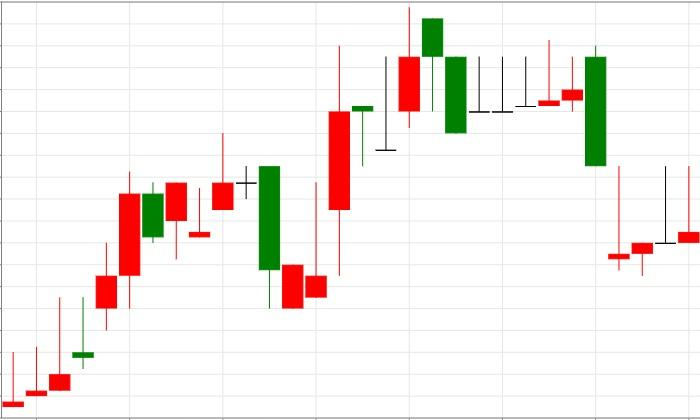evening_star_fall: (1, 134, 281, 408)
inverse_hammer_rise: (212, 134, 328, 309)
